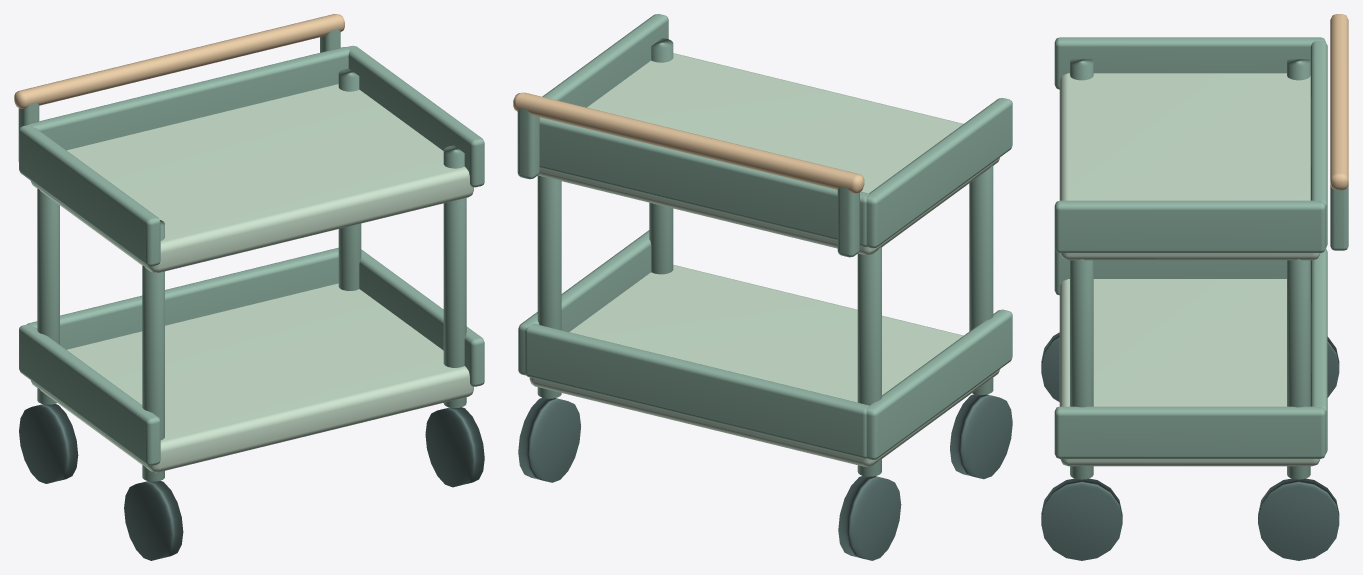
File: cart.glb
The picture shows the model from 3 angles, left to right: view 1: azimuth 30°, elevation 25°; view 2: azimuth 150°, elevation 25°; view 3: azimuth 270°, elevation 25°; orthographic projection. The views are drawn at different scales.
Visible parts, largest first — view 1: cart; view 2: cart; view 3: cart.
Boxes of the visible parts, <box> form: cart: <box>14,14,484,560</box>; cart: <box>513,14,1012,560</box>; cart: <box>1041,14,1348,560</box>.
Bounding box in the file's own units: 1.19 × 1.26 × 0.9075.
